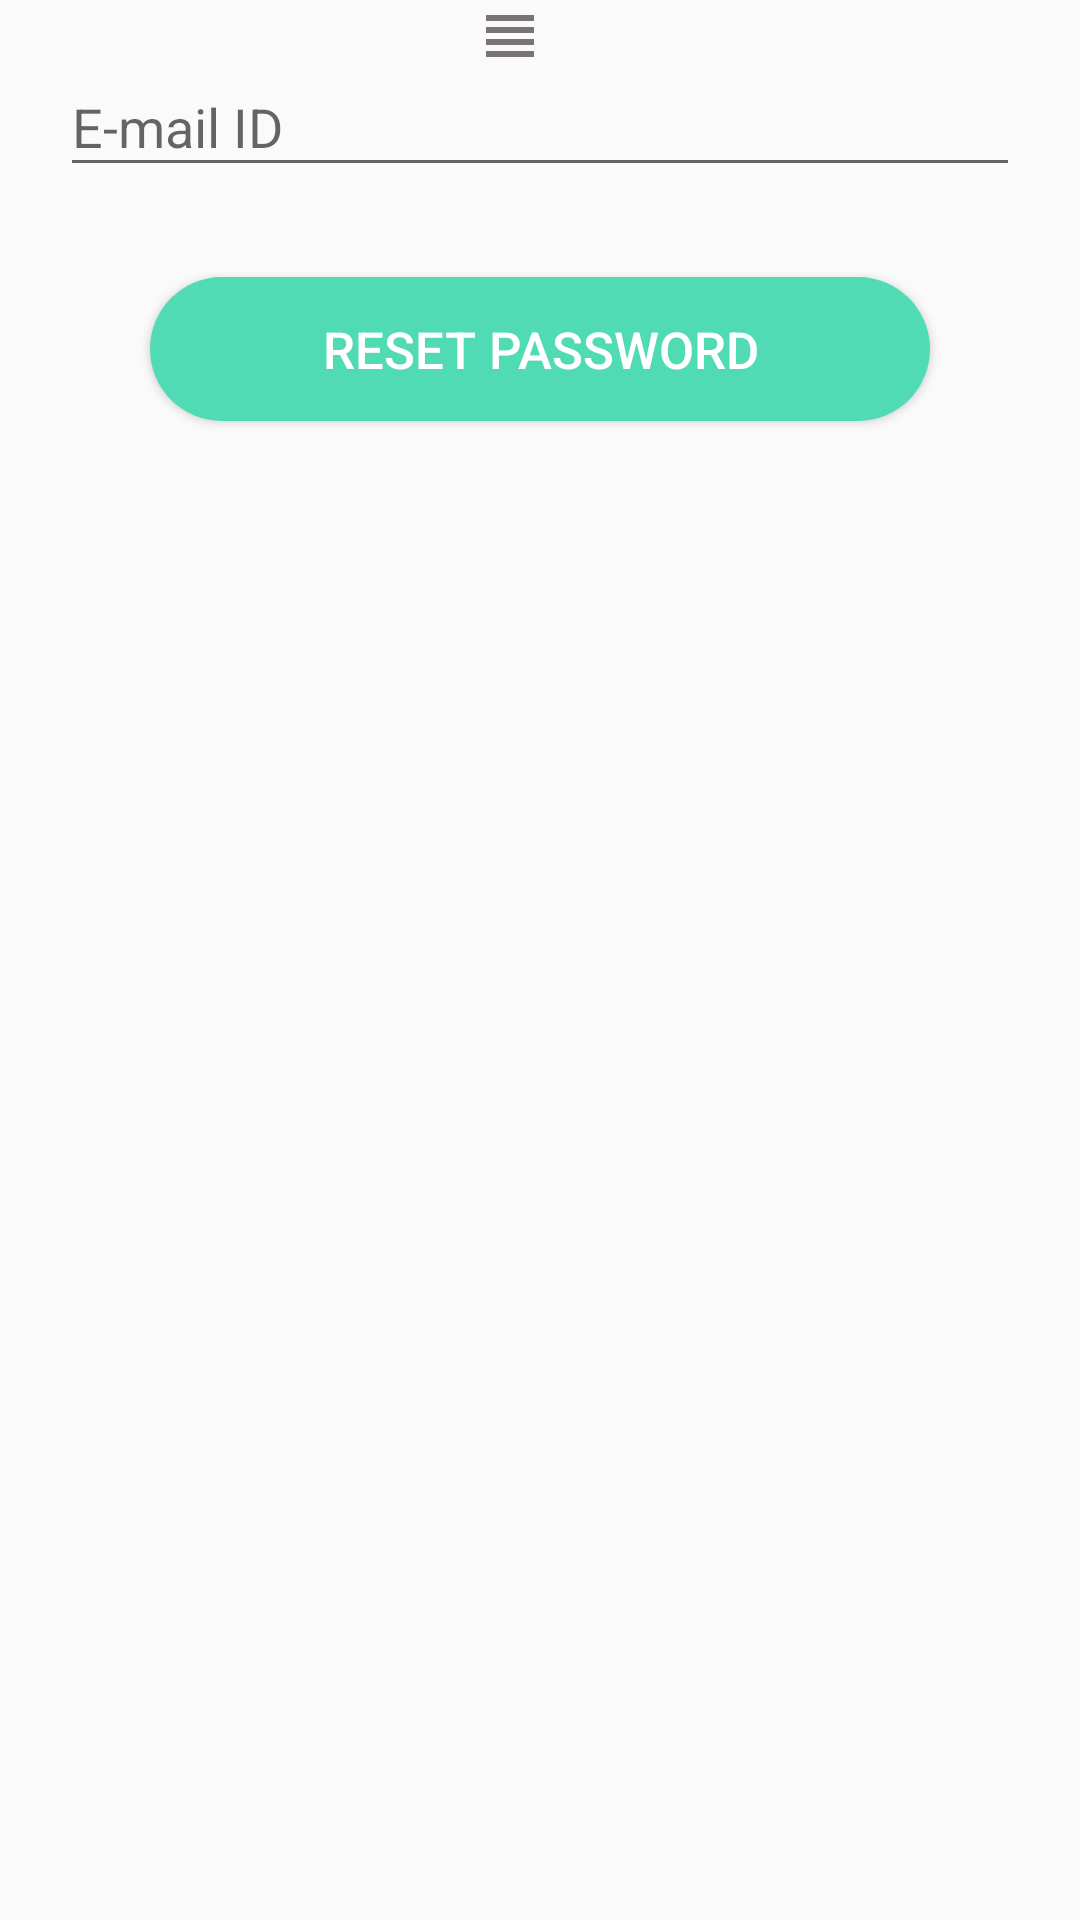

Point at icon controls on the screen. Image size 1080w x 1920h, points as point (x, y).
view headline: point (510, 36)
